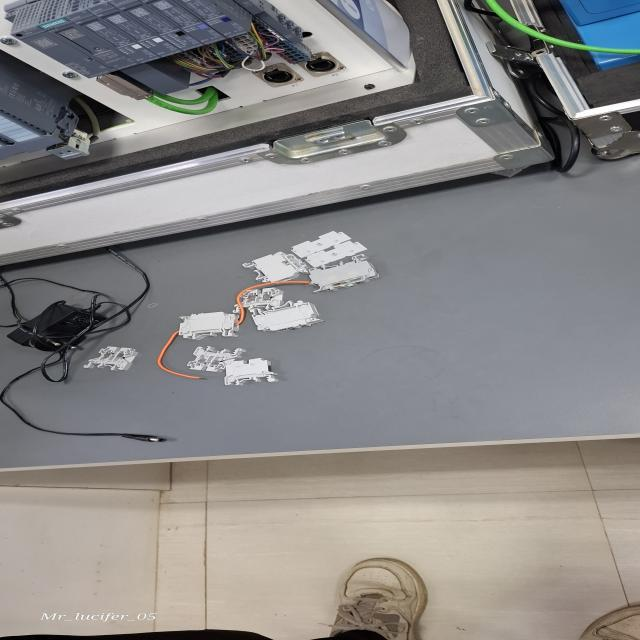Inverted: (220, 358, 280, 387)
Pass: (186, 345, 246, 373), (80, 346, 139, 372), (232, 286, 284, 314)
